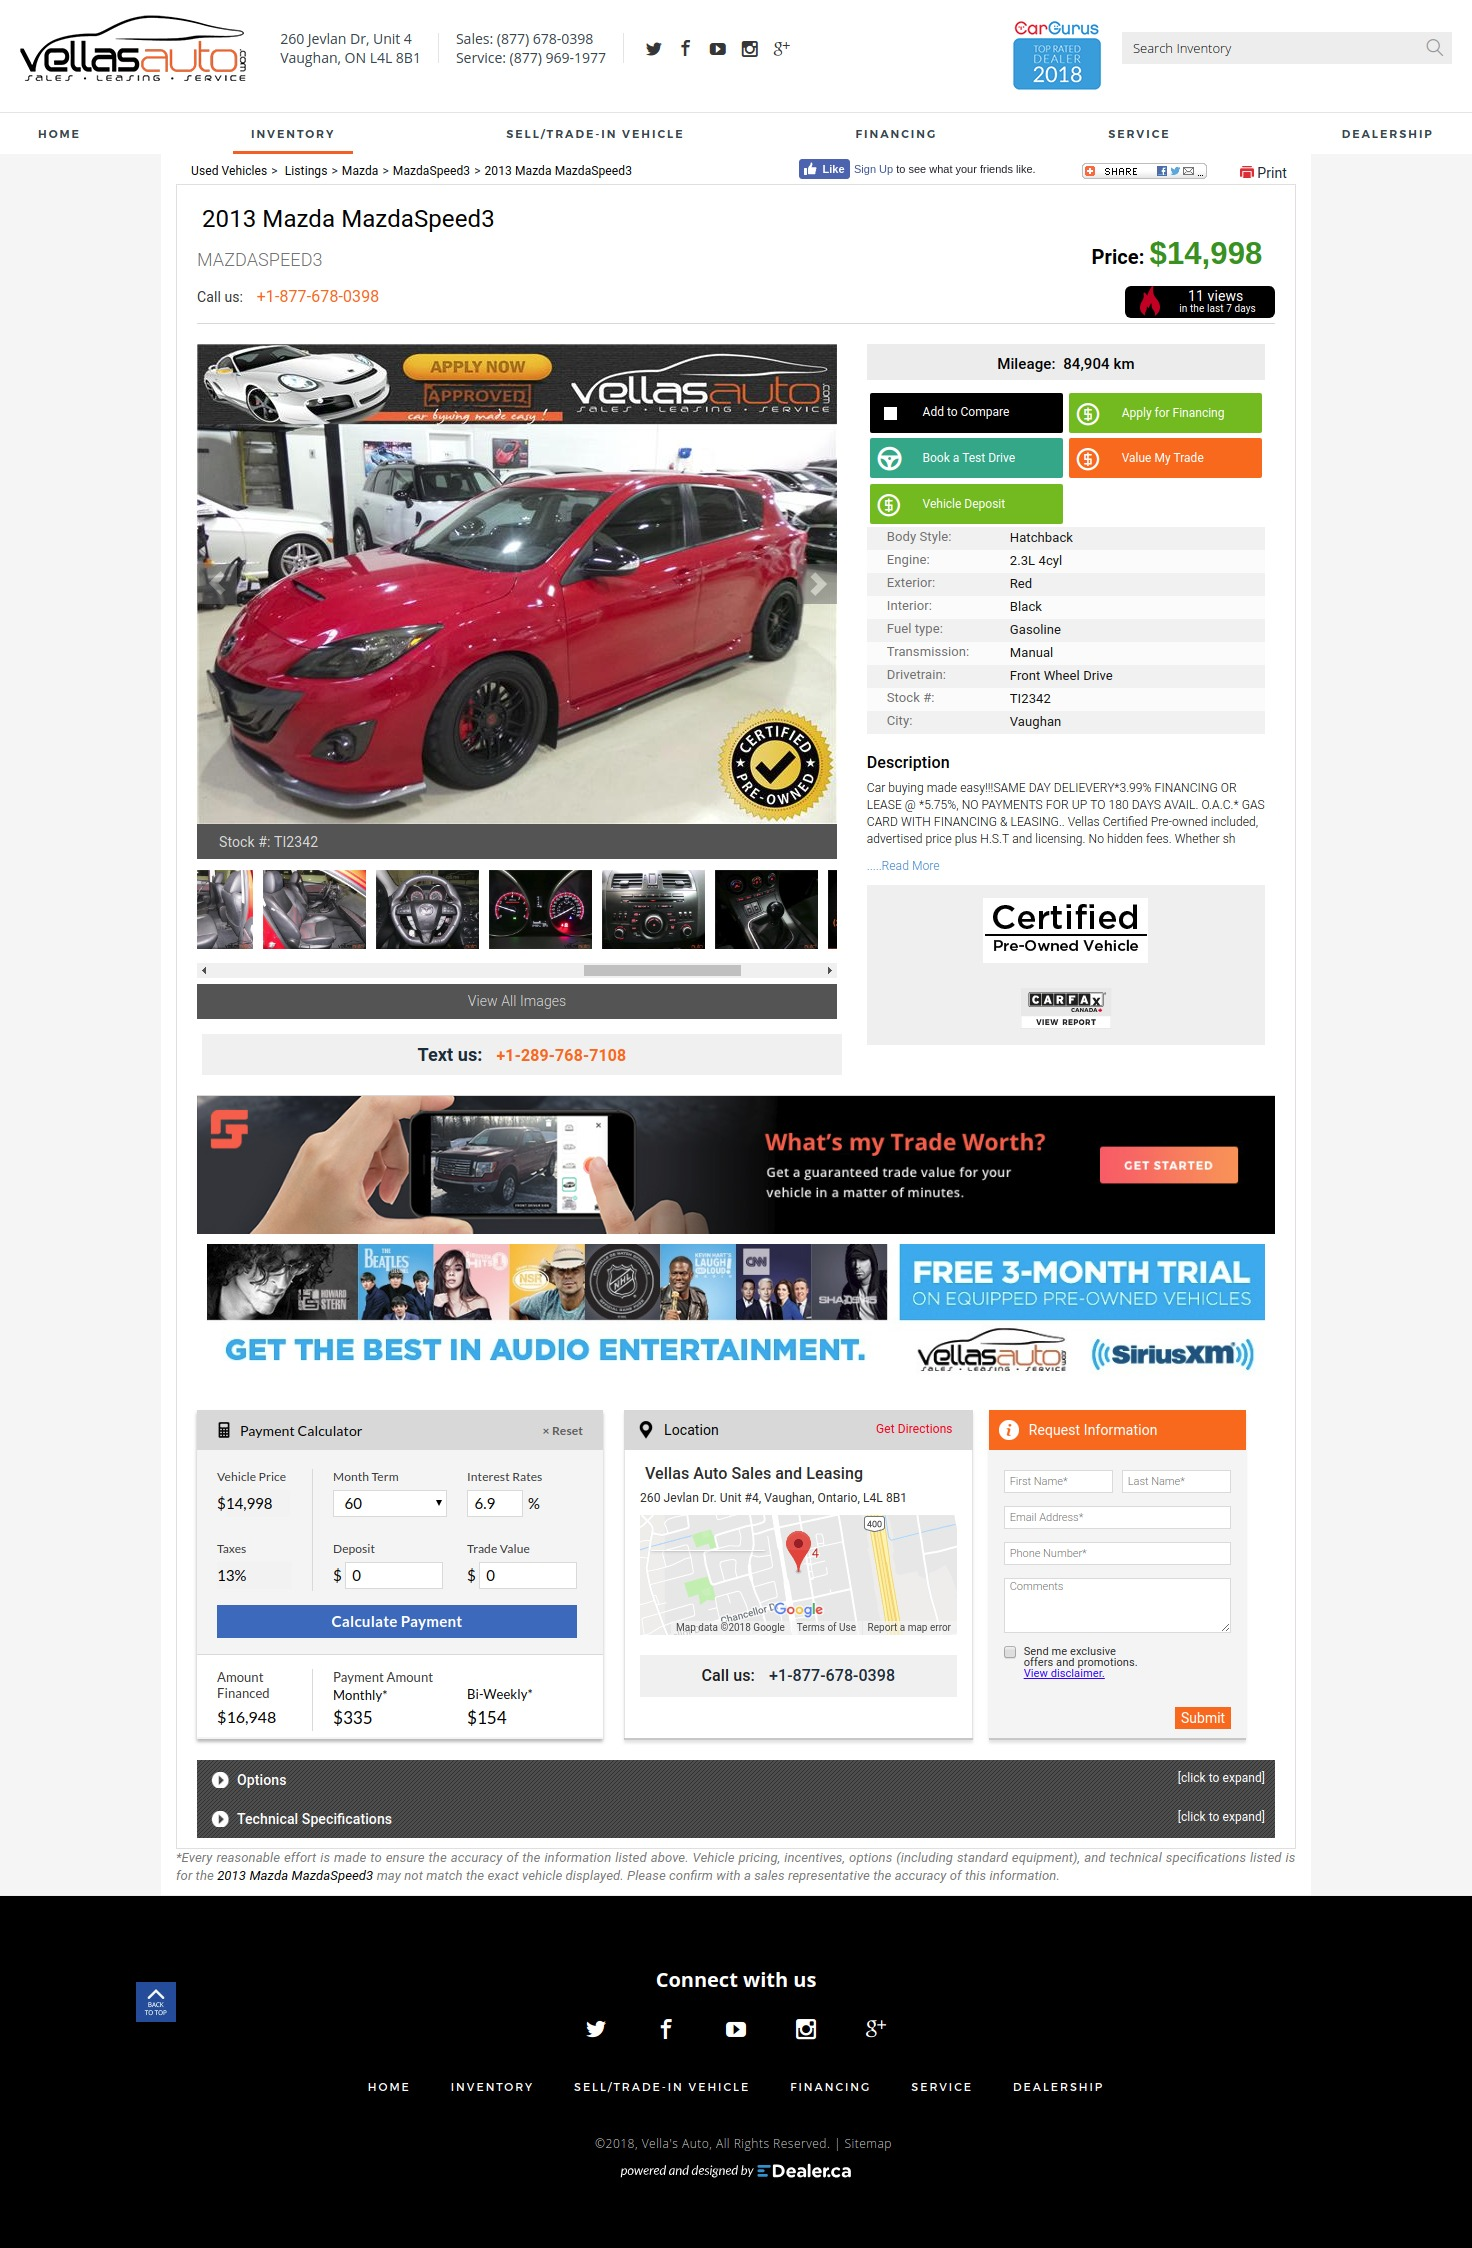car: (828, 967, 833, 975)
